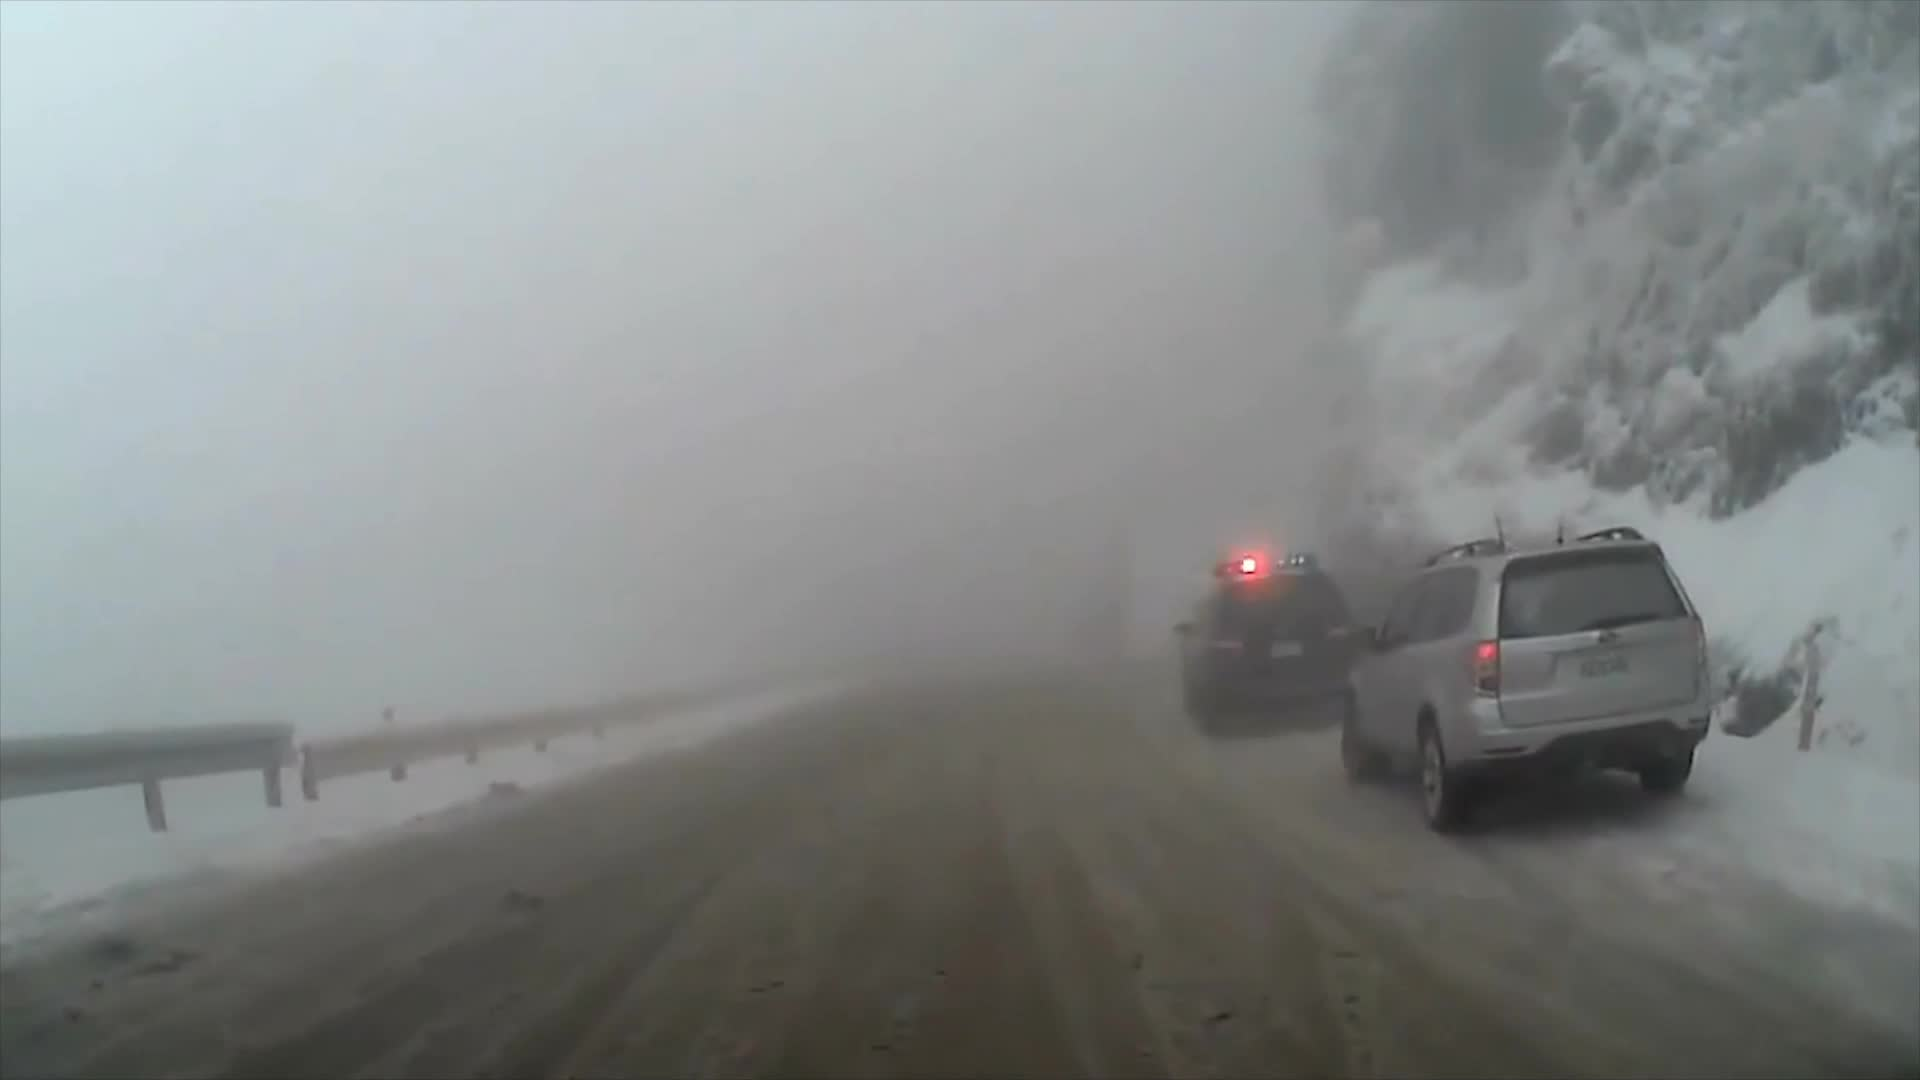vehicle: (1335, 526, 1713, 835), (1174, 545, 1365, 732)
